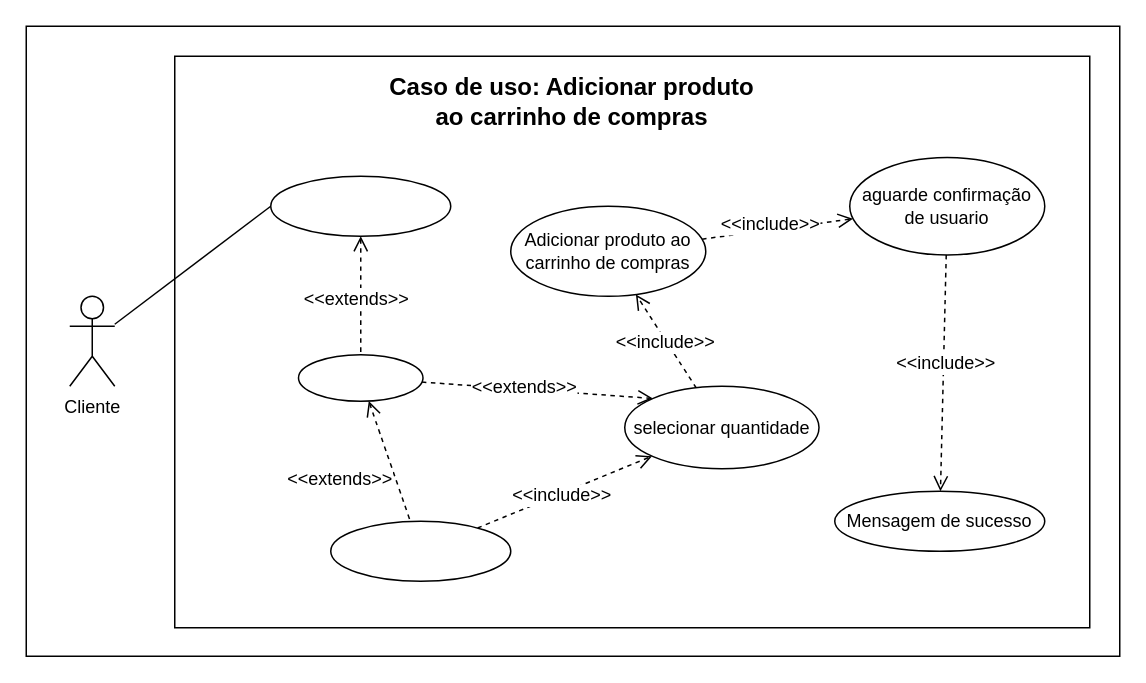
This 1146x683 diagram has some shape labels left out. Each missing label, with the centre of its shape:
"Loja" belongs at point (360, 377).
"Menu" belongs at point (360, 205).
"selecionar um produto" belongs at point (420, 550).
